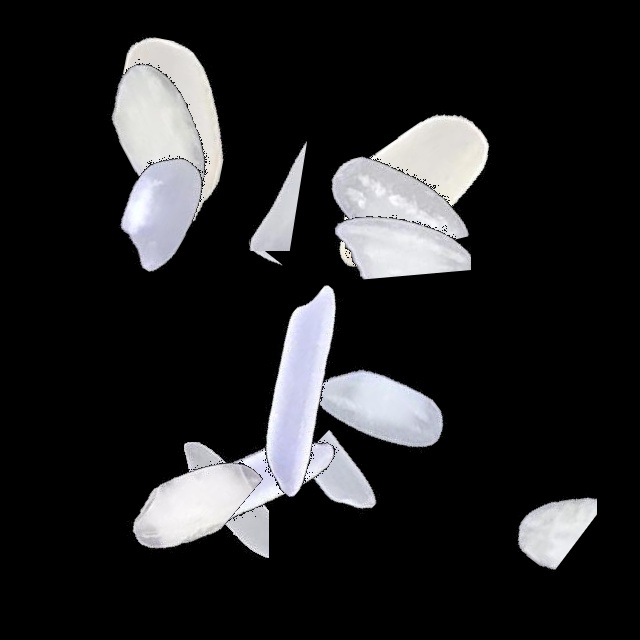Broken: (304, 41, 476, 291), (37, 398, 287, 555), (66, 422, 316, 577), (328, 79, 471, 329), (238, 424, 488, 558), (110, 123, 360, 251), (478, 369, 597, 619), (220, 192, 318, 442)
Full: (44, 5, 294, 255), (283, 63, 533, 313), (33, 6, 283, 256), (255, 284, 505, 534), (127, 357, 377, 607), (33, 84, 283, 334), (181, 265, 431, 515)
